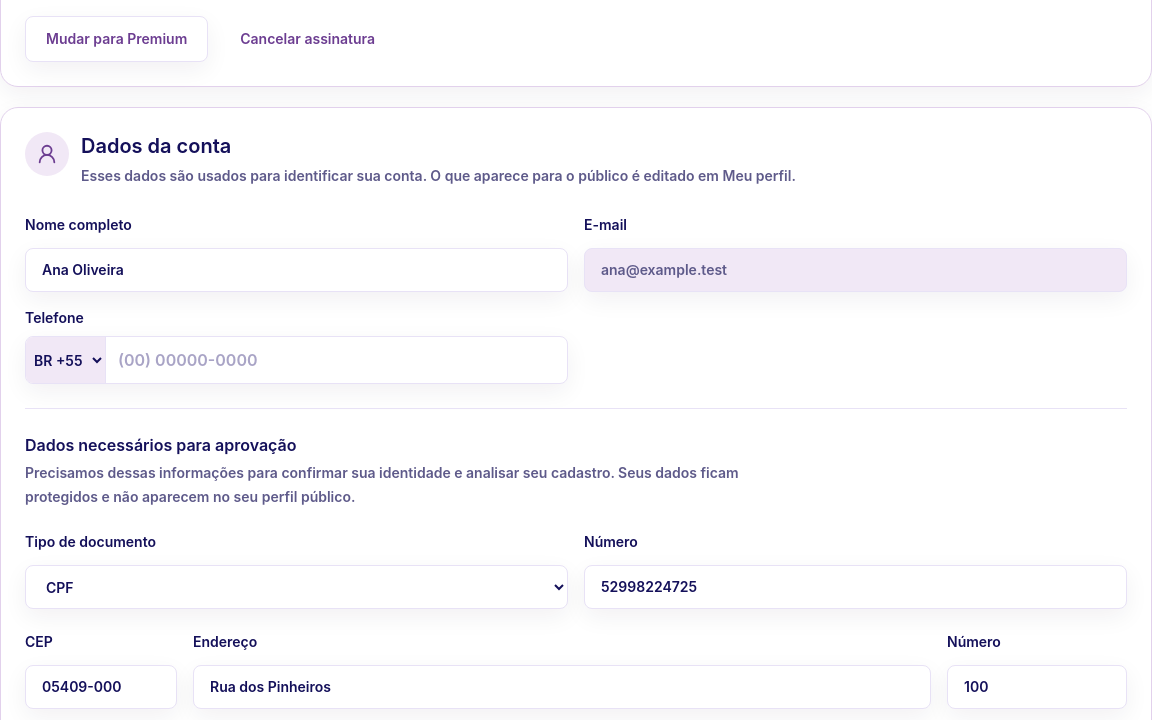
Test: TherapistSettingsPage › shows local validation before sending invalid settings
(page scrolled)
Type "119999" into the field labelled "Telefone". click: (336, 360)
box: [106,337,567,383]
(page scrolled)
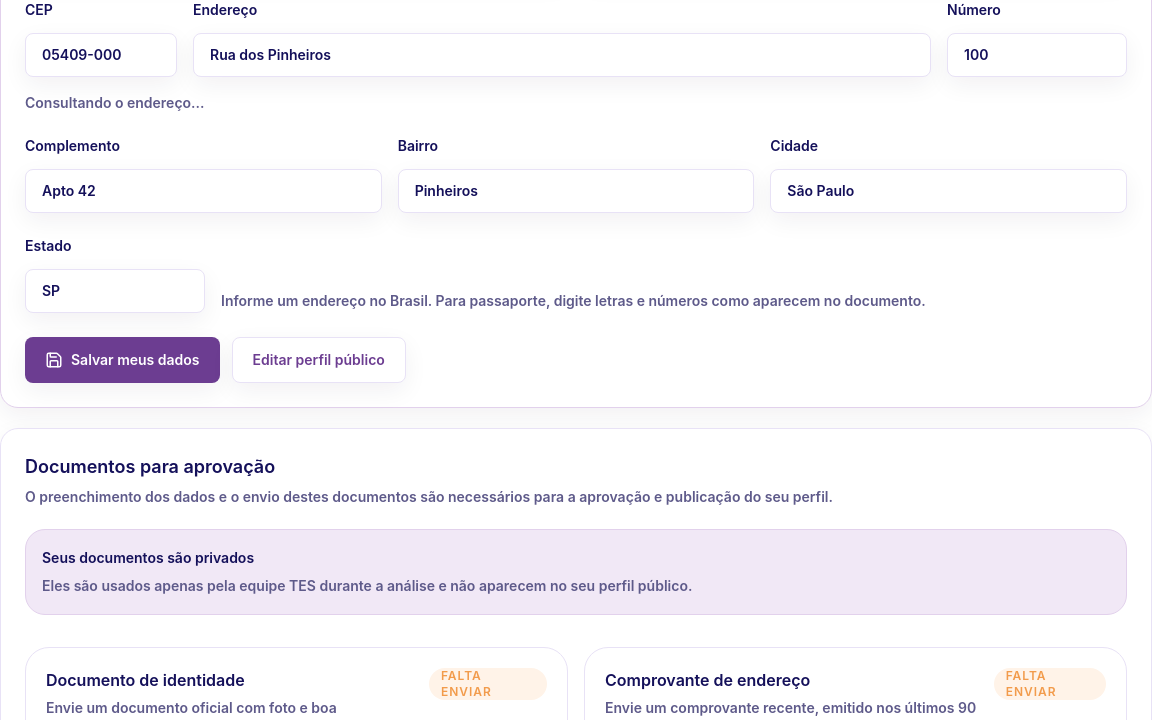
Click the button "Salvar meus dados". click: (122, 360)
box: [25,337,220,383]
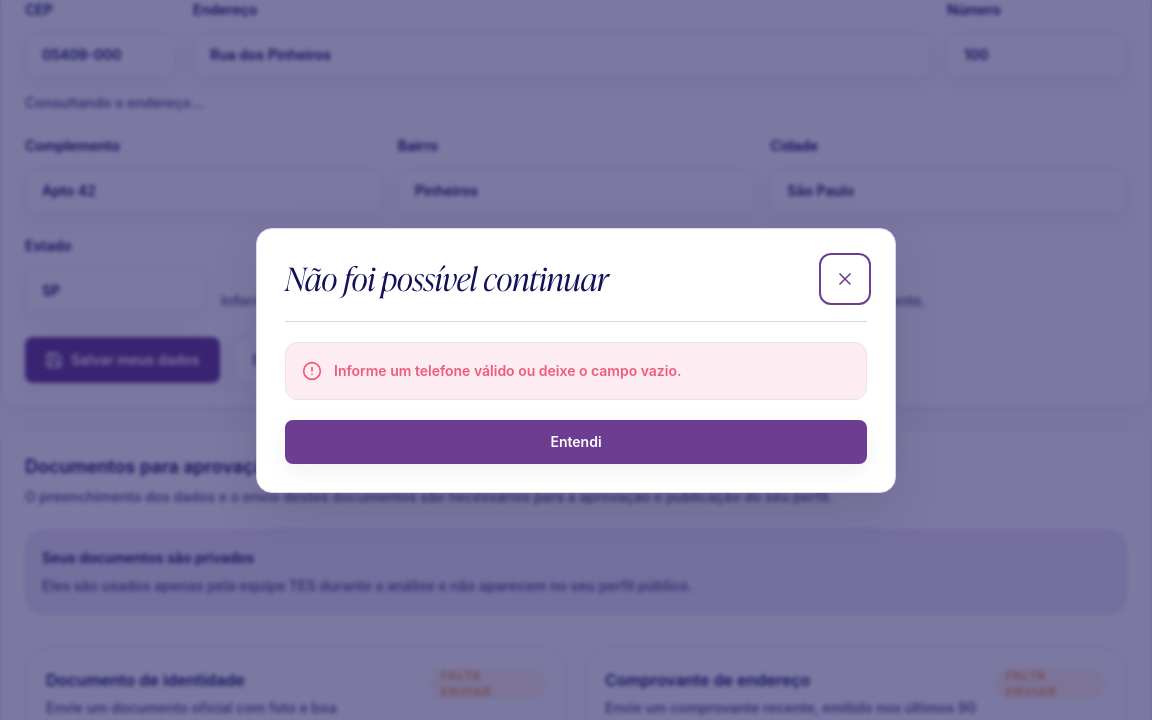
Expected: the message reads "Informe um telefone válido ou deixe o campo vazio.", [334,362,681,378]
